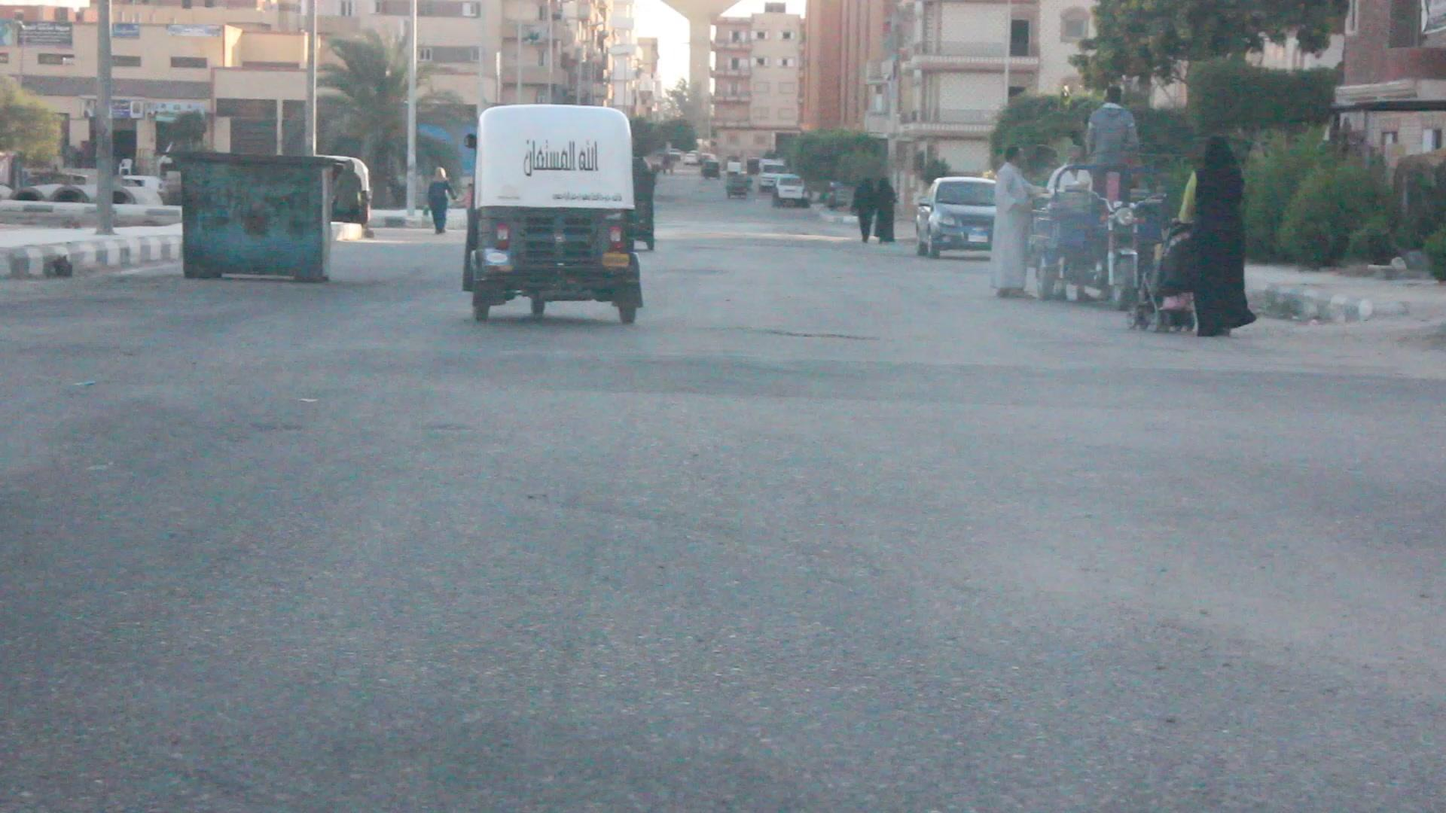Bump: (0, 331, 1446, 433)
